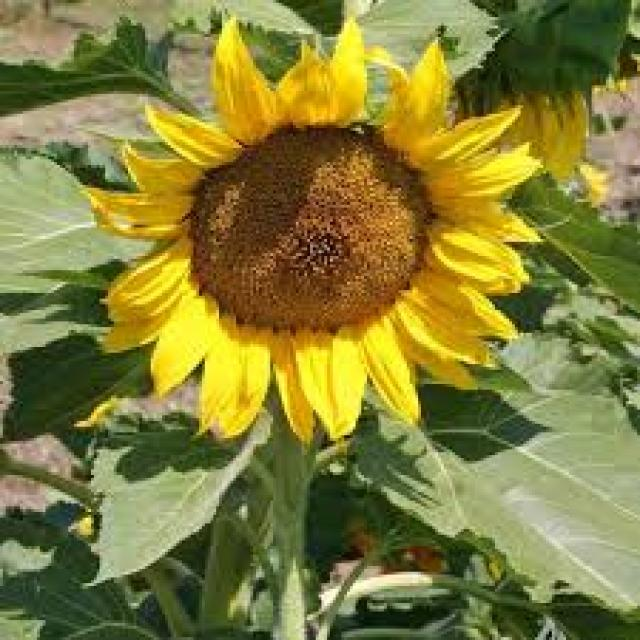sunflower: (85, 10, 562, 452)
